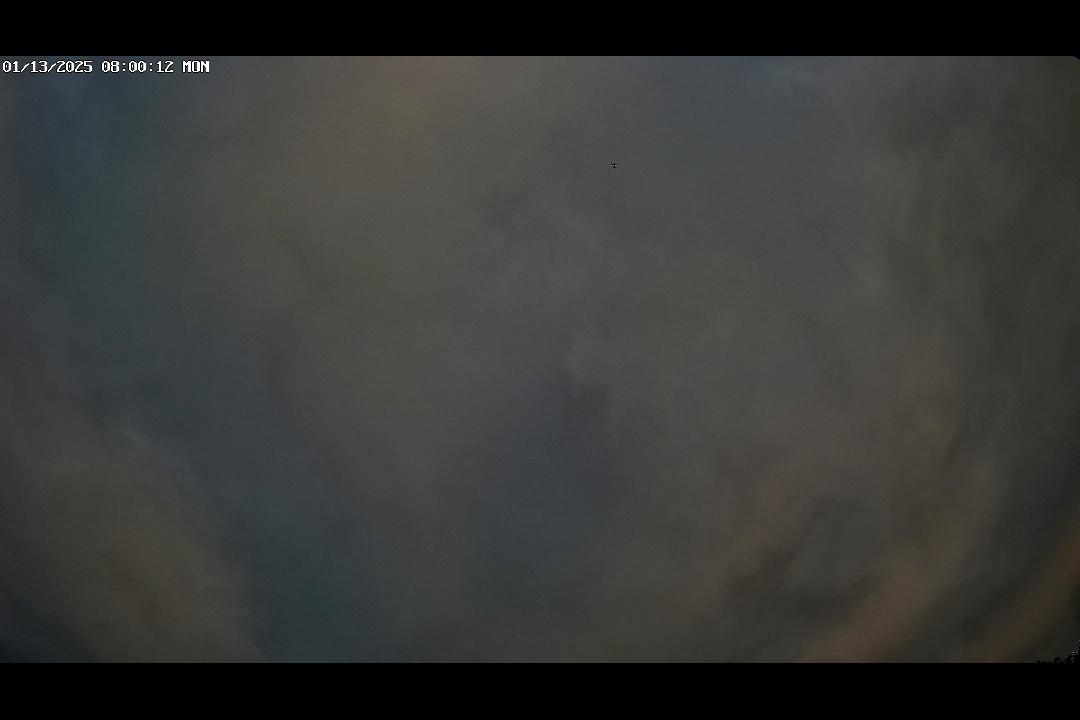Plane: (606, 158, 624, 173)
